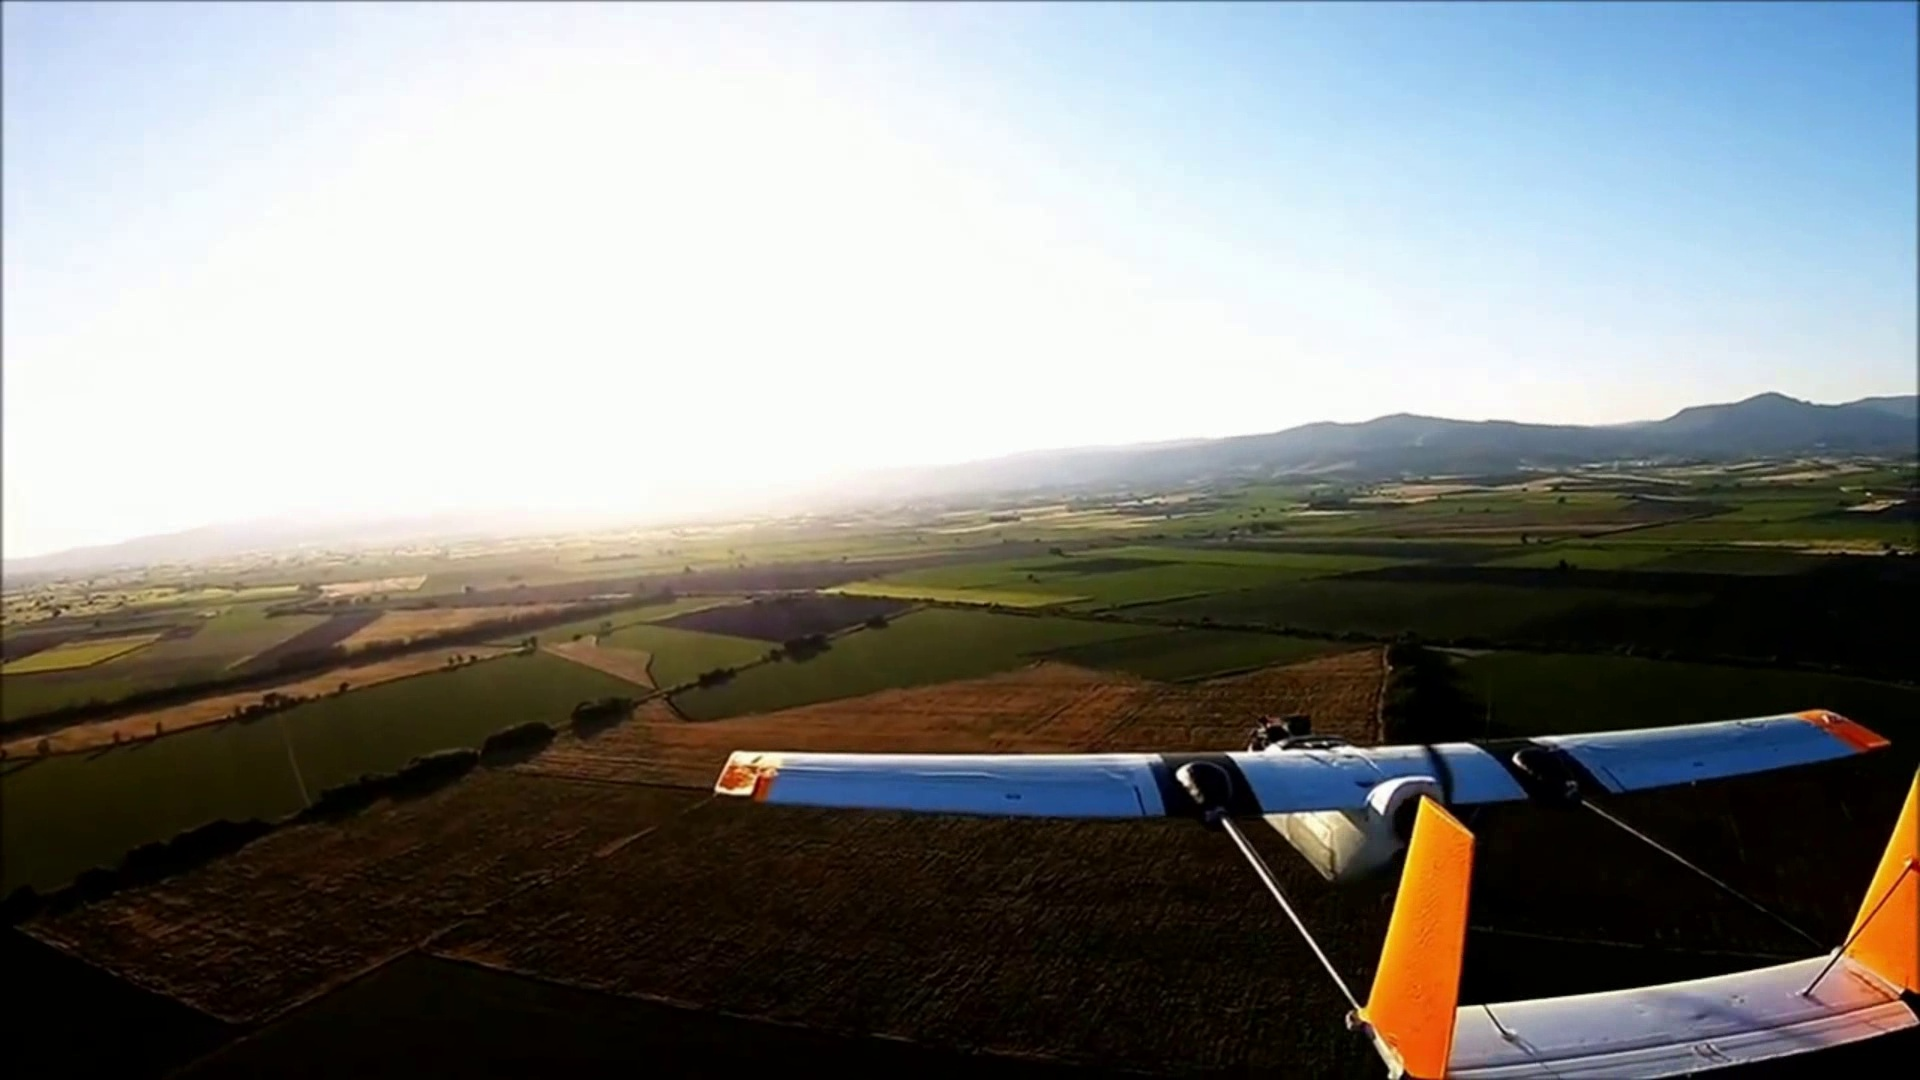airplane: (717, 716, 1915, 1063)
